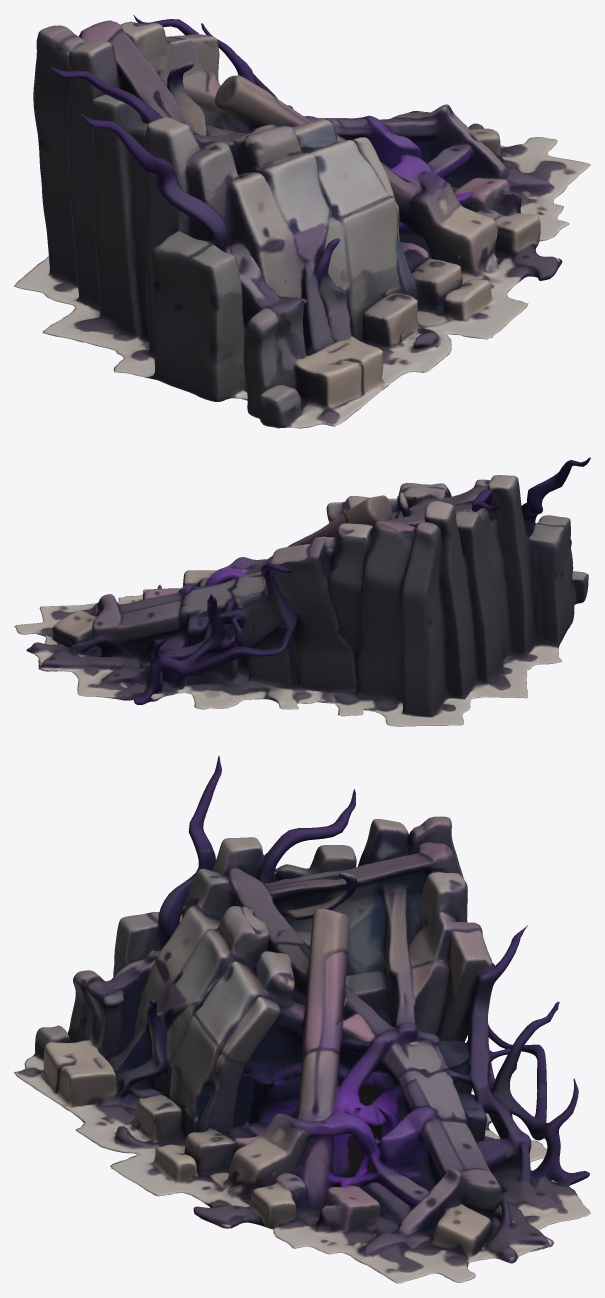
Rendered from SM_Environment_RuinedDebris_01.fbx.
3 views of the same model, one above another, from view 1: azimuth 30°, elevation 25°; view 2: azimuth 150°, elevation 25°; view 3: azimuth 270°, elevation 25° (orthographic). The views are drawn at different scales.
Parts seen in each view (by area): view 1: SM_Environment_RuinedDebris_01; view 2: SM_Environment_RuinedDebris_01; view 3: SM_Environment_RuinedDebris_01.
Part boxes in pixels (x1,y1,x2,y2): SM_Environment_RuinedDebris_01: (14, 15, 590, 428); SM_Environment_RuinedDebris_01: (14, 457, 590, 726); SM_Environment_RuinedDebris_01: (14, 756, 590, 1283).
Bounding box in the file's own units: 0.9888 × 0.4312 × 0.8715.
Materials: 1 (1 with a texture image).
